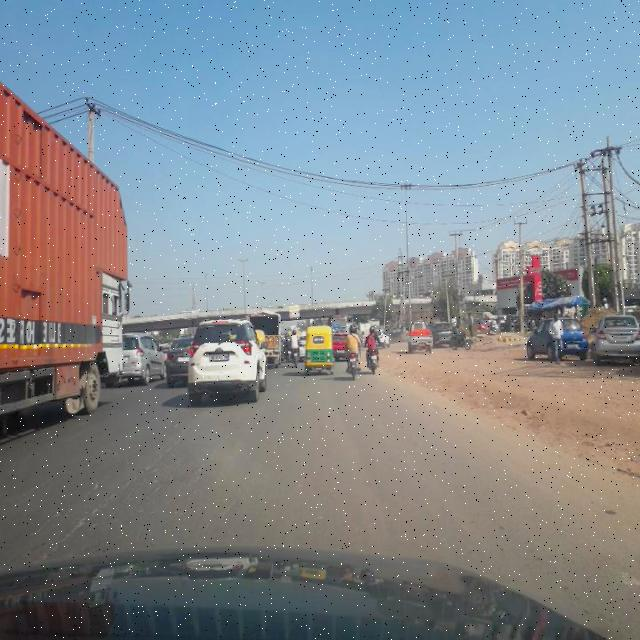D00: (46, 410, 205, 556)
